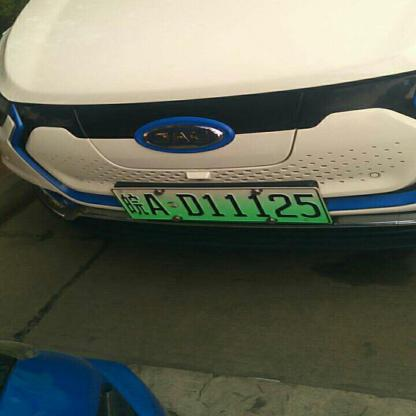lp: (111, 188, 330, 221)
